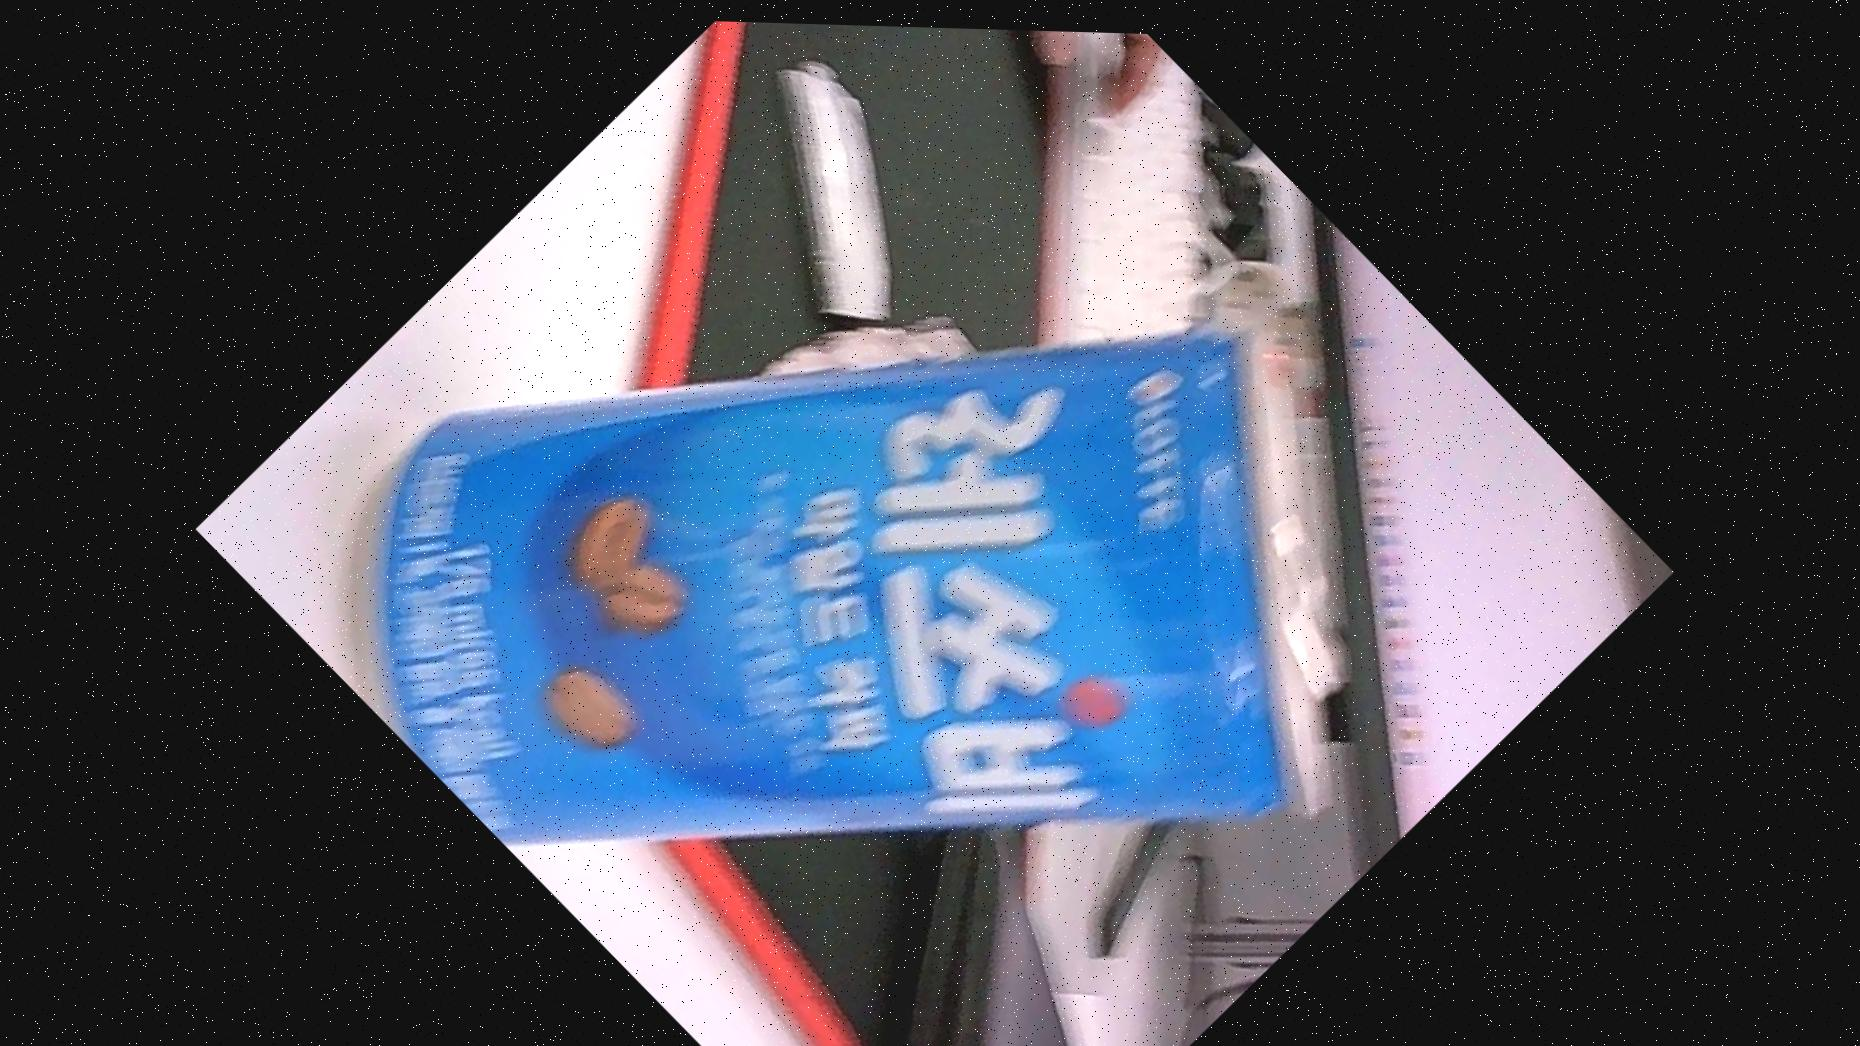letsbe: (250, 6, 1532, 1046)
